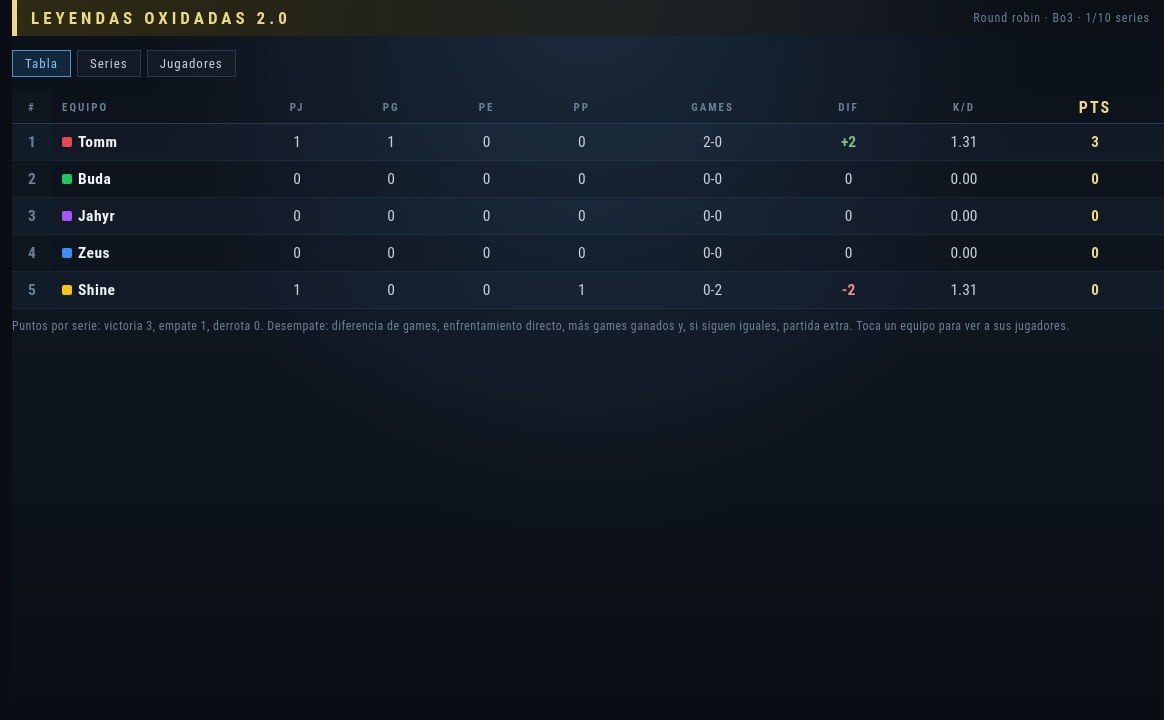
Scenario: TorneoView › tabla: Tomm arriba con la serie ganada y el roster al tocarlo
The image size is (1164, 720).
Expected: the heading "Leyendas Oxidadas 2.0" is shown, [31,8,291,28]
Expected: the text "Round robin · Bo3 · 1/10 series" is shown, [973,11,1150,25]
Click the text "Tomm": (90, 142) [62,133,118,151]
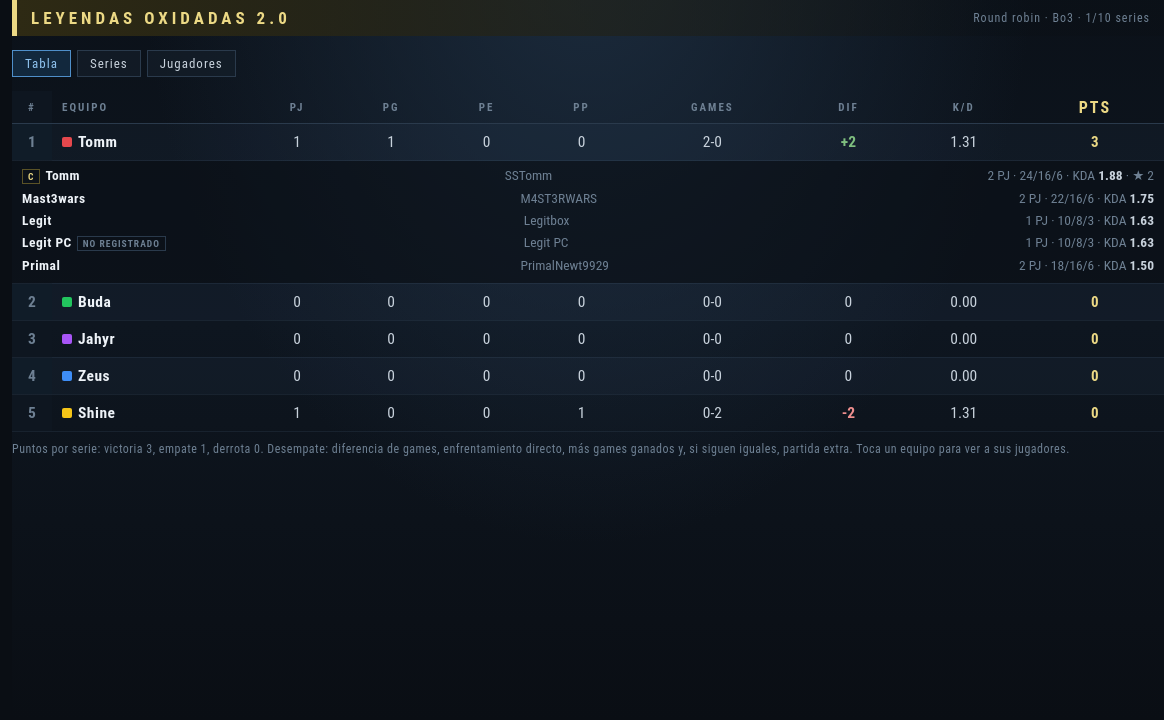
Now the text "Mast3wars" is shown, box [22,190,86,206]
Now the text "Legit PC" is shown, box [22,234,72,250]
Now the text "no registrado" is shown, box [77,236,166,251]
